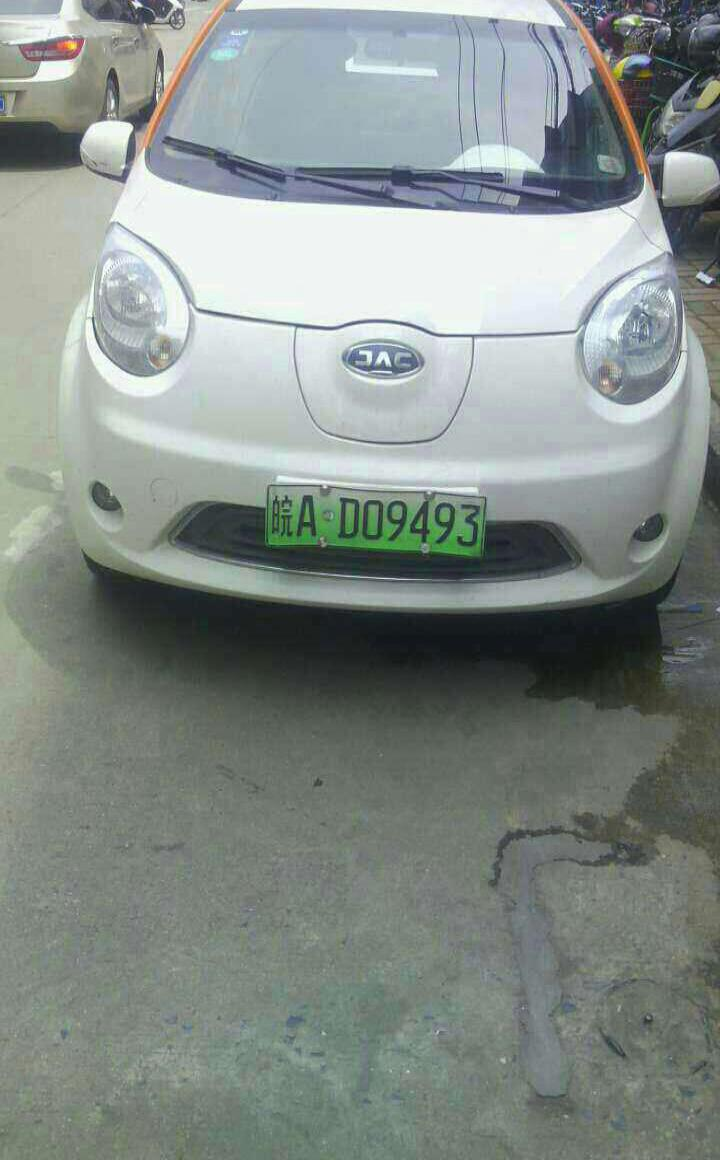car: (270, 478, 491, 566)
